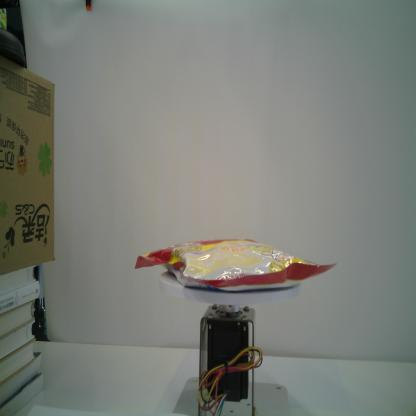Instant Drink: (132, 234, 339, 293)
